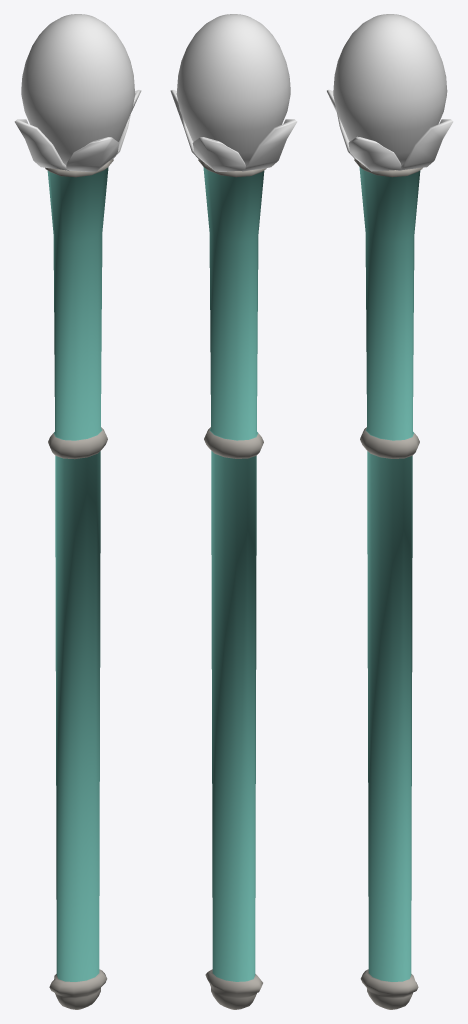
Rendered from varinha7.fbx.
The picture shows the model from 3 angles, left to right: view 1: azimuth 30°, elevation 25°; view 2: azimuth 150°, elevation 25°; view 3: azimuth 330°, elevation 25°; orthographic projection.
Visible parts, largest first — view 1: Cylinder.009, Sphere, Plane, Plane.001; view 2: Cylinder.009, Sphere, Plane, Plane.001; view 3: Cylinder.009, Sphere, Plane, Plane.001.
Boxes of the visible parts, x1=… form: Cylinder.009: x1=45, y1=159, x2=113, y2=1009; Sphere: x1=21, y1=14, x2=135, y2=165; Plane: x1=14, y1=90, x2=141, y2=170; Plane.001: x1=66, y1=137, x2=119, y2=171; Cylinder.009: x1=198, y1=159, x2=266, y2=1009; Sphere: x1=176, y1=14, x2=290, y2=165; Plane: x1=170, y1=90, x2=297, y2=171; Plane.001: x1=192, y1=137, x2=245, y2=171; Cylinder.009: x1=354, y1=159, x2=422, y2=1009; Sphere: x1=333, y1=14, x2=447, y2=165; Plane: x1=327, y1=89, x2=453, y2=170; Plane.001: x1=348, y1=136, x2=401, y2=171.
Size of the model in its own units: 6.63 by 49.4 by 5.63.
